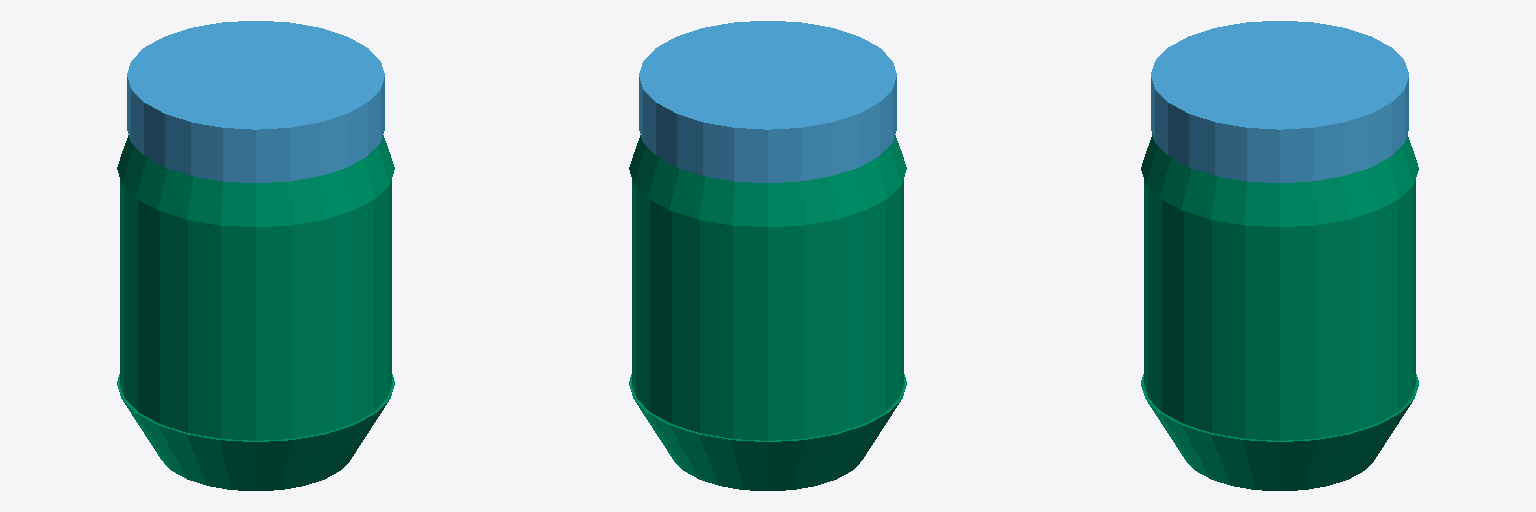
The robot description file, URDF, robot "partnet_189996124312ea7430612f5c0ef21eb8":
<?xml version="1.0" ?>
<robot name="partnet_189996124312ea7430612f5c0ef21eb8">
	<link name="base"/>
	<link name="link_0">
		<visual name="lid-2">
			<origin xyz="0.011707000000000023 0 -0.002923"/>
			<geometry>
				<mesh filename="textured_objs/original-5.obj"/>
			</geometry>
		</visual>
		<collision>
			<origin xyz="0.011707000000000023 0 -0.002923"/>
			<geometry>
				<mesh filename="textured_objs/original-5.obj"/>
			</geometry>
		</collision>
	</link>
	<joint name="joint_0" type="continuous">
		<origin xyz="0.0 0 0.0"/>
		<axis xyz="0 1 0"/>
		<child link="link_0"/>
		<parent link="link_0_helper"/>
	</joint>
	<link name="link_1">
		<visual name="container-3">
			<origin xyz="0 0 0"/>
			<geometry>
				<mesh filename="textured_objs/original-3.obj"/>
			</geometry>
		</visual>
		<visual name="container-3">
			<origin xyz="0 0 0"/>
			<geometry>
				<mesh filename="textured_objs/original-4.obj"/>
			</geometry>
		</visual>
		<visual name="bottom-4">
			<origin xyz="0 0 0"/>
			<geometry>
				<mesh filename="textured_objs/original-2.obj"/>
			</geometry>
		</visual>
		<collision>
			<origin xyz="0 0 0"/>
			<geometry>
				<mesh filename="textured_objs/original-3.obj"/>
			</geometry>
		</collision>
		<collision>
			<origin xyz="0 0 0"/>
			<geometry>
				<mesh filename="textured_objs/original-4.obj"/>
			</geometry>
		</collision>
		<collision>
			<origin xyz="0 0 0"/>
			<geometry>
				<mesh filename="textured_objs/original-2.obj"/>
			</geometry>
		</collision>
	</link>
	<joint name="joint_1" type="fixed">
		<origin rpy="1.570796326794897 0 -1.570796326794897" xyz="0 0 0"/>
		<child link="link_1"/>
		<parent link="base"/>
	</joint>
	<link name="link_0_helper"/>
	<joint name="joint_2" type="prismatic">
		<origin xyz="-0.011707000000000023 0 0.002923"/>
		<axis xyz="0 1 0"/>
		<child link="link_0_helper"/>
		<parent link="link_1"/>
		<limit lower="-0.1160000000000001" upper="-0.008000000000000007"/>
	</joint>
</robot>

--- Render facts (derived) ---
Views: 3 orthographic renders of the robot side by side, from view 1: azimuth 30°, elevation 25°; view 2: azimuth 150°, elevation 25°; view 3: azimuth 270°, elevation 25°.
Model partnet_189996124312ea7430612f5c0ef21eb8 with 4 links and 3 joints (1 continuous, 1 prismatic, 1 fixed), rooted at base, posed joints at zero except 1 at the middle of their limits (joint_2 = -0.062).
Links seen in each view (by area): view 1: link_1, link_0; view 2: link_1, link_0; view 3: link_1, link_0.
Boxes of the visible links, x1,y1,x2,y2 form: link_1: (117,135,394,490); link_0: (127,21,384,182); link_1: (629,135,906,490); link_0: (639,21,896,182); link_1: (1141,135,1418,490); link_0: (1151,21,1408,182).
Size in the robot's own frame: 1.15 by 1.15 by 1.7 metres.
4 mesh visuals loaded from 4 distinct referenced files (4 OBJ).
